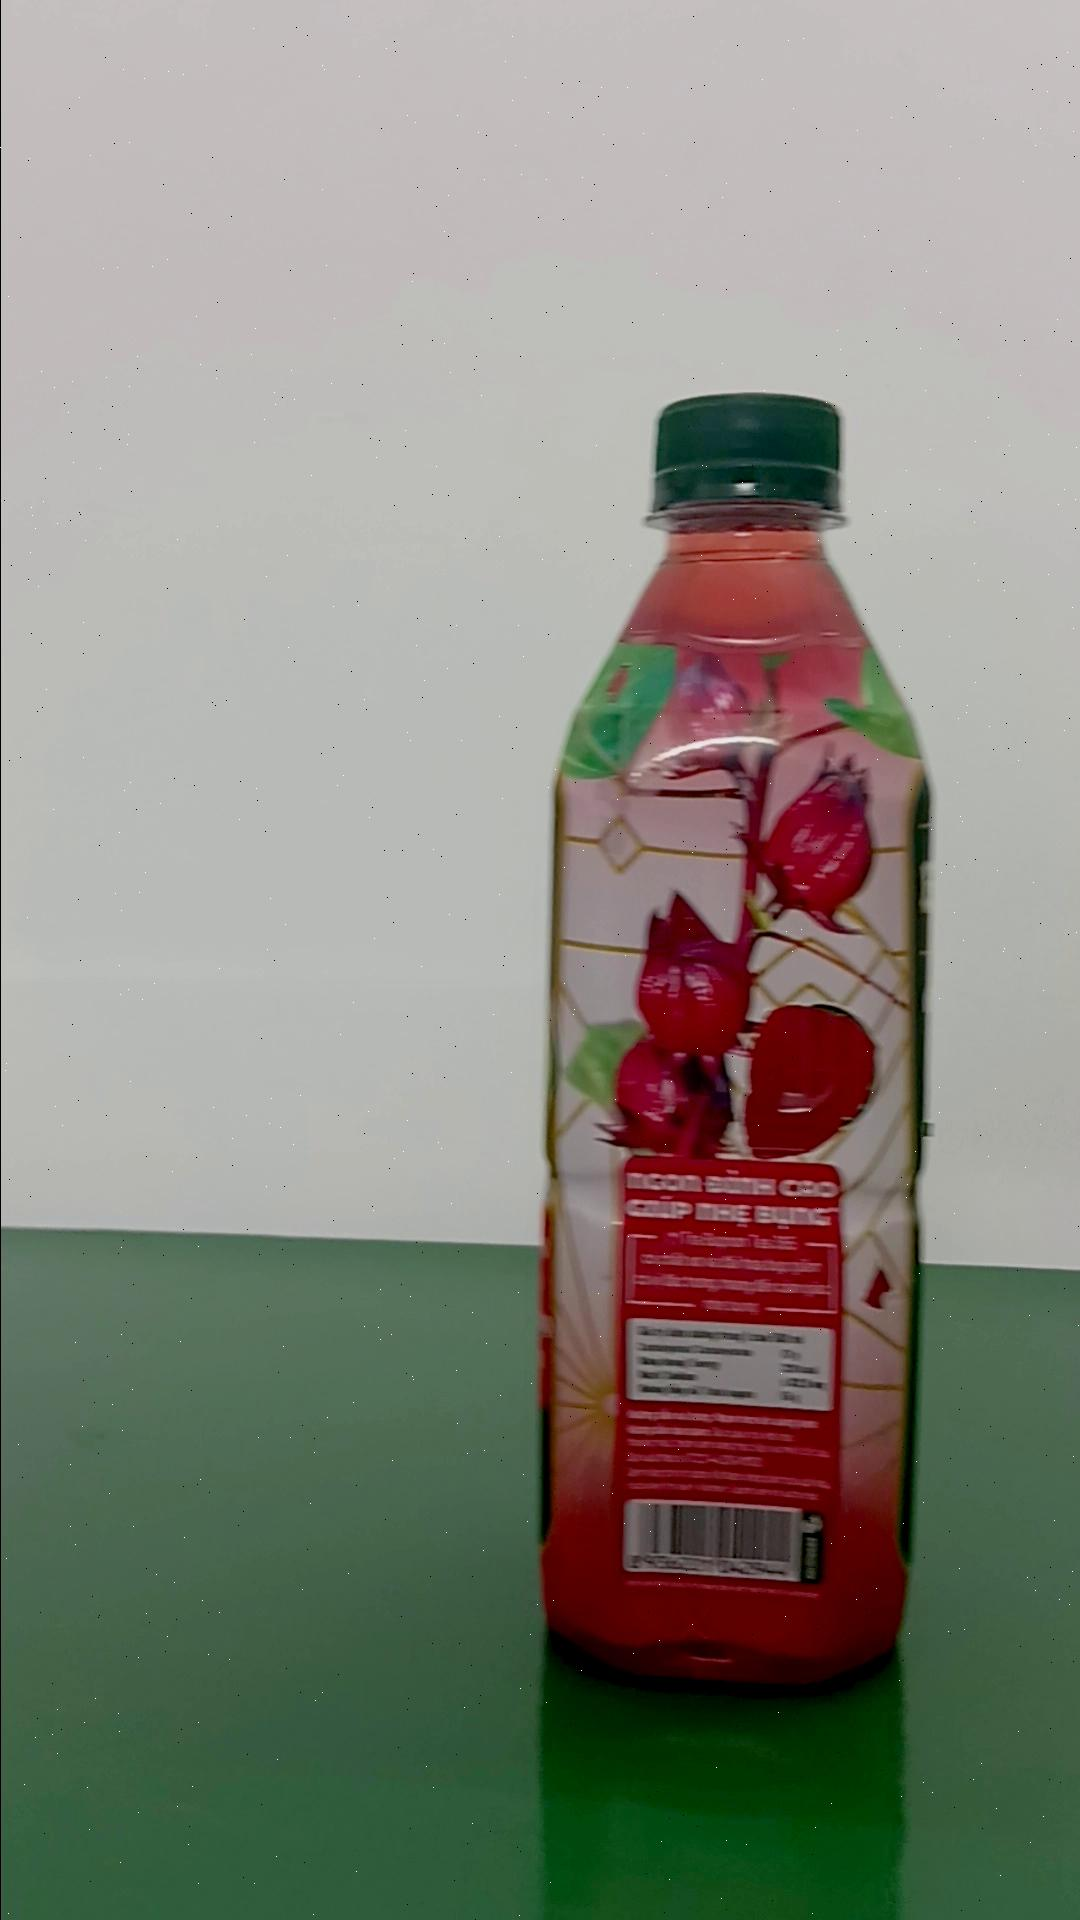loi rach va lap chai: (537, 381, 928, 1708)
